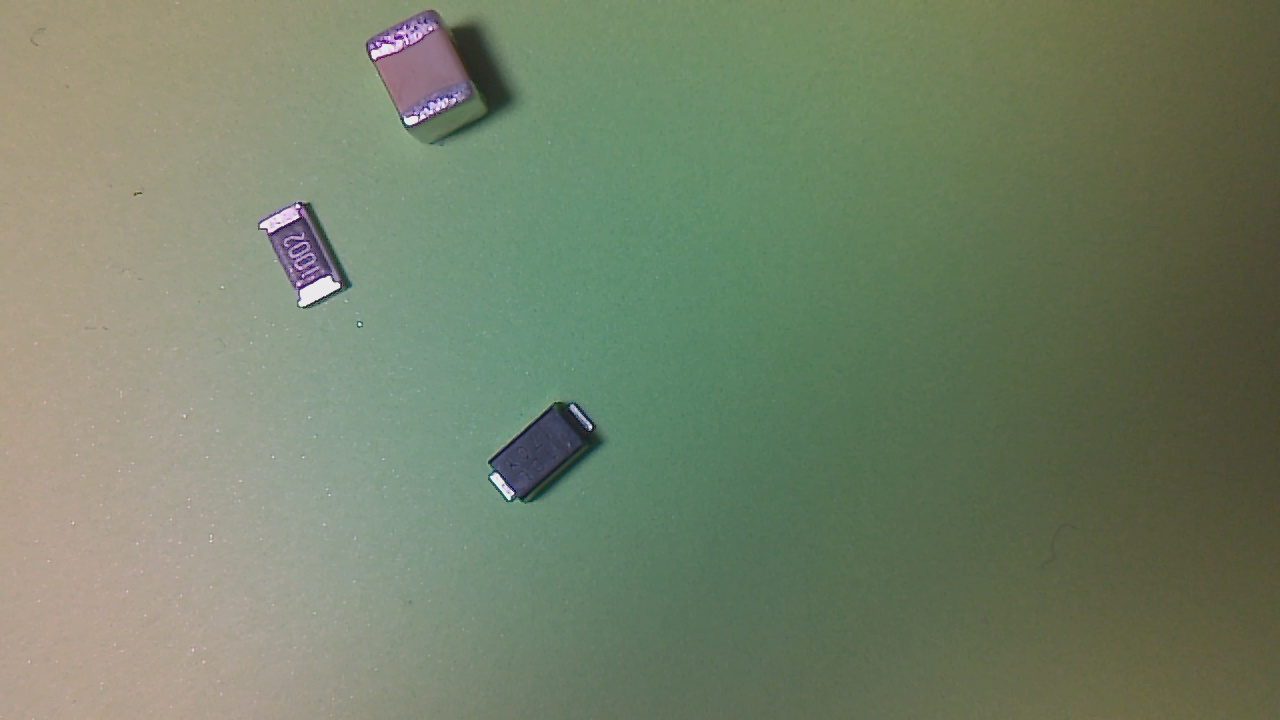Condensator: (368, 13, 482, 137)
Diode: (483, 399, 607, 510)
Resistor: (259, 204, 359, 314)
